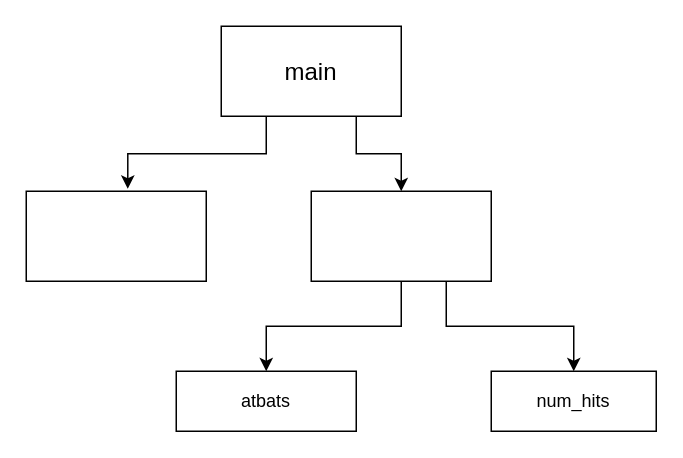
This 683x458 diagram has some shape labels left out. Each missing label, with the centre of its shape:
avg: [400,235]
Title: [115,235]
